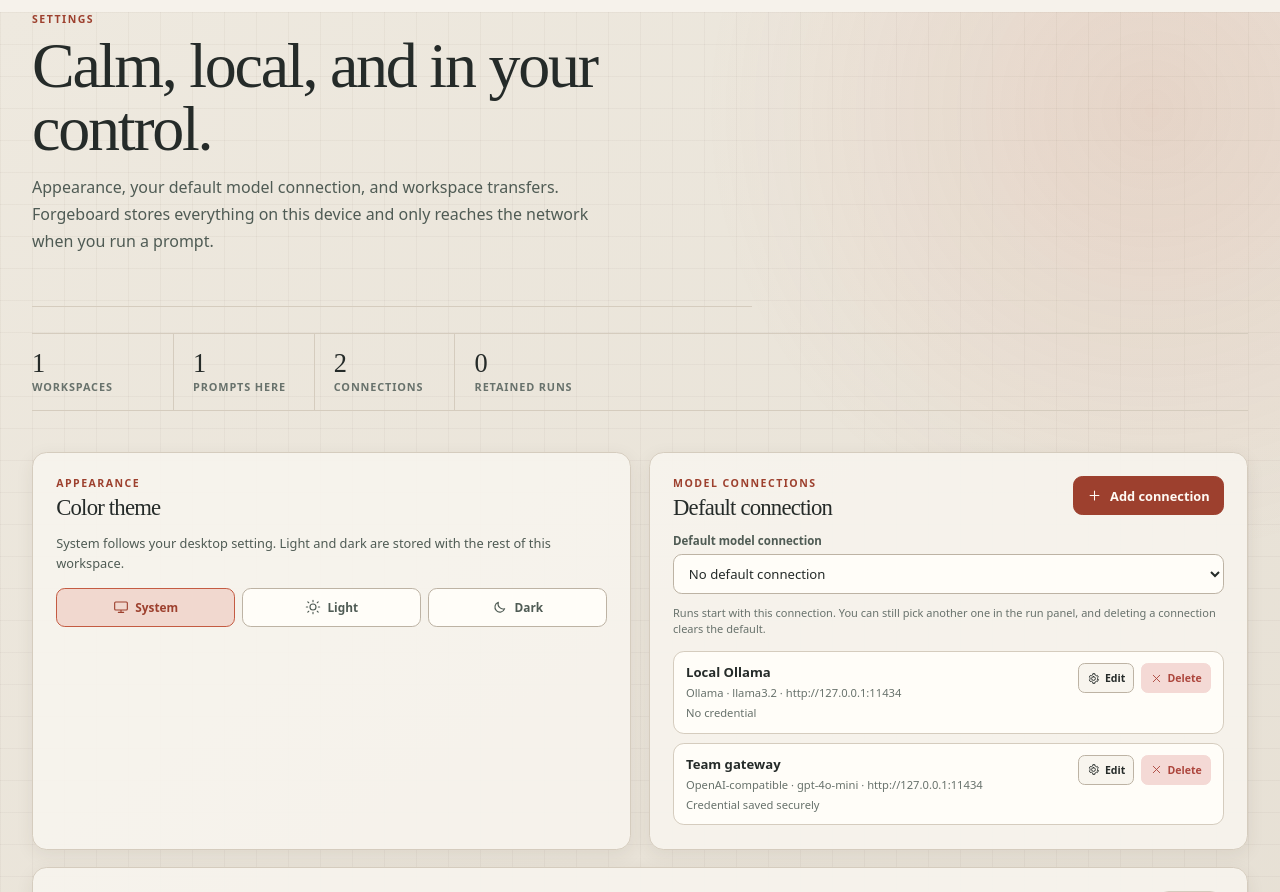
Test: settings preferences › reports a safe failure when the bridge rejects a settings change
Click the button with aria-label "Theme: Light" at {"x": 332, "y": 607}, box [242,588,421,627]
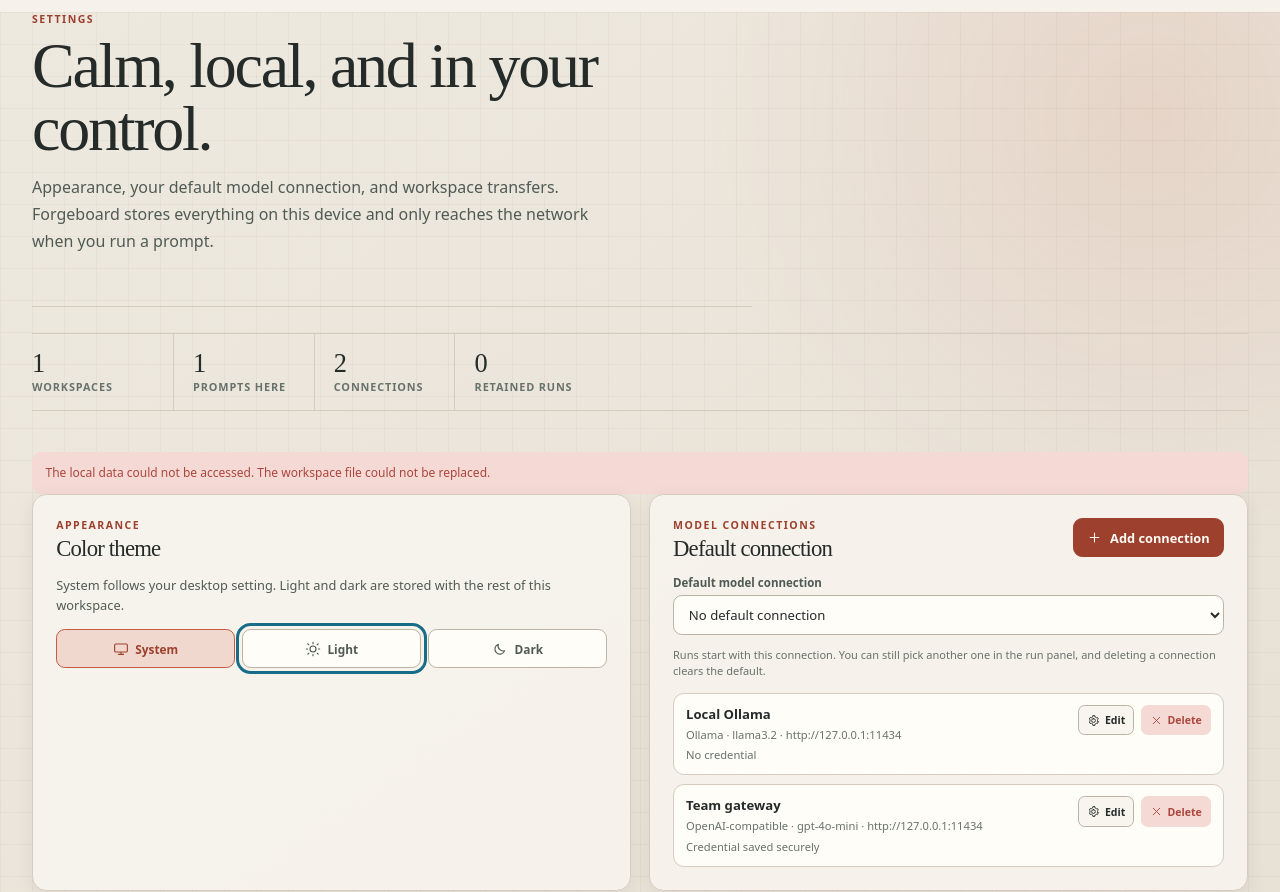
Expected: the 2nd message shows "The local data could not be accessed.", [46,464,490,481]
Expected: the 2nd message shows "The workspace file could not be replaced.", [46,464,490,481]
